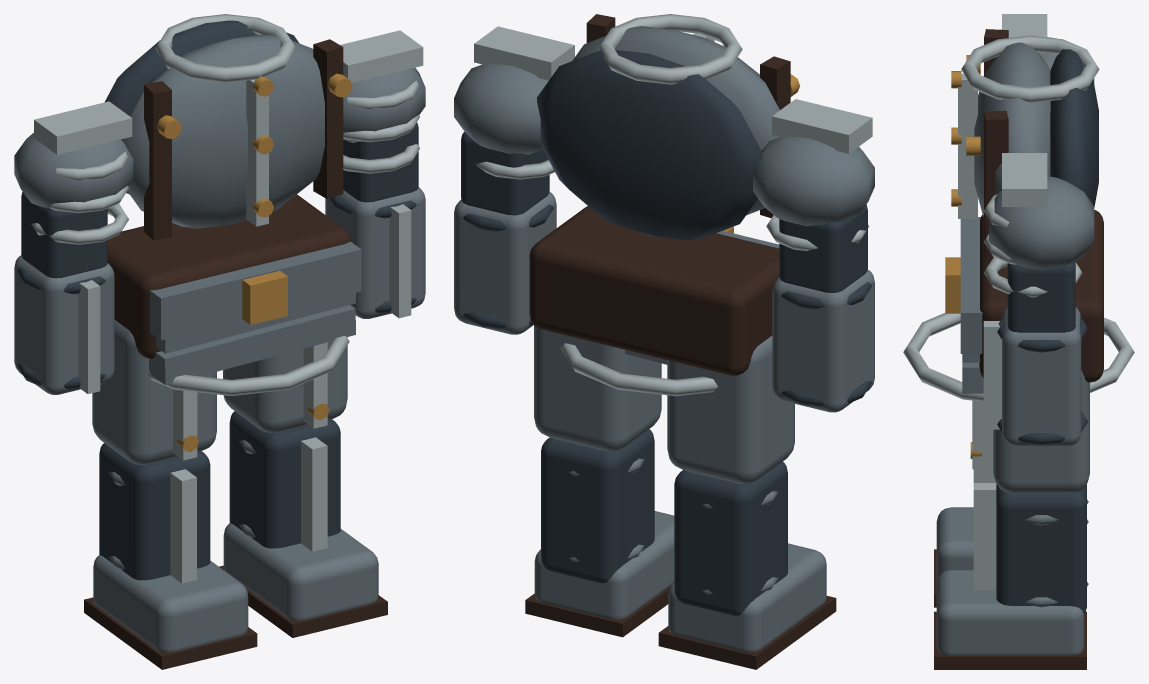
Rendered from armor-halfplate.glb.
The picture shows the model from 3 angles, left to right: view 1: azimuth 30°, elevation 25°; view 2: azimuth 150°, elevation 25°; view 3: azimuth 270°, elevation 25°; orthographic projection. The views are drawn at different scales.
Visible parts, largest first — view 1: breastplate-front, greave-shell (×2), sabaton-shell (×2), vambrace-shell (×2), cuisses-shell (×2), plate-waist-belt, plate-belt-plate, pauldron-shell (×2), articulated-faulds (×2), vambrace-elbow-joint (×2), breastplate-shoulder-strap (×2), pauldron-shoulder-ridge (×2) (+10 smaller); view 2: breastplate-back, plate-waist-belt, greave-shell (×2), cuisses-shell (×2), vambrace-shell (×2), pauldron-shell (×2), sabaton-shell (×2), vambrace-elbow-joint (×2), pauldron-shoulder-ridge (×2), breastplate-front, sabaton-sole (×2), breastplate-neck-ring (+4 smaller); view 3: sabaton-shell (×2), greave-shell, vambrace-shell, pauldron-shell, breastplate-front, breastplate-back, cuisses-shell, plate-waist-belt, vambrace-elbow-joint, breastplate-neck-ring, pauldron-shoulder-ridge (×2), fauld-hem (+11 smaller).
Part boxes in pixels (box(x1,y1,x2,y2)): breastplate-front: box(120, 34, 324, 228); greave-shell (×2): box(99, 411, 340, 580); sabaton-shell (×2): box(93, 523, 378, 652); vambrace-shell (×2): box(14, 187, 425, 394); cuisses-shell (×2): box(92, 320, 347, 464); plate-waist-belt: box(107, 194, 351, 358); plate-belt-plate: box(149, 241, 361, 340); pauldron-shell (×2): box(14, 67, 425, 208); articulated-faulds (×2): box(149, 293, 355, 385); vambrace-elbow-joint (×2): box(21, 122, 418, 278); breastplate-shoulder-strap (×2): box(144, 39, 343, 240); pauldron-shoulder-ridge (×2): box(34, 30, 423, 154); breastplate-back: box(537, 50, 762, 240); plate-waist-belt: box(529, 206, 779, 375); greave-shell (×2): box(541, 429, 787, 615); cuisses-shell (×2): box(534, 325, 794, 483); vambrace-shell (×2): box(454, 192, 874, 412); pauldron-shell (×2): box(454, 64, 874, 226); sabaton-shell (×2): box(534, 511, 826, 651); vambrace-elbow-joint (×2): box(461, 132, 867, 292); pauldron-shoulder-ridge (×2): box(474, 26, 872, 153); breastplate-front: box(572, 26, 779, 215); sabaton-sole (×2): box(525, 585, 836, 669); breastplate-neck-ring: box(598, 14, 742, 84); sabaton-shell (×2): box(936, 507, 1084, 655); greave-shell: box(996, 484, 1086, 613); vambrace-shell: box(1002, 307, 1081, 446); pauldron-shell: box(989, 176, 1094, 270); breastplate-front: box(974, 42, 1050, 216); breastplate-back: box(1050, 49, 1098, 206); cuisses-shell: box(993, 370, 1089, 493); plate-waist-belt: box(979, 210, 1103, 382); vambrace-elbow-joint: box(1007, 261, 1075, 332); breastplate-neck-ring: box(961, 35, 1099, 103); pauldron-shoulder-ridge (×2): box(1002, 14, 1047, 206); fauld-hem: box(903, 313, 1134, 401).
Size of the model in its own units: 0.7945 by 1.09 by 0.408.
